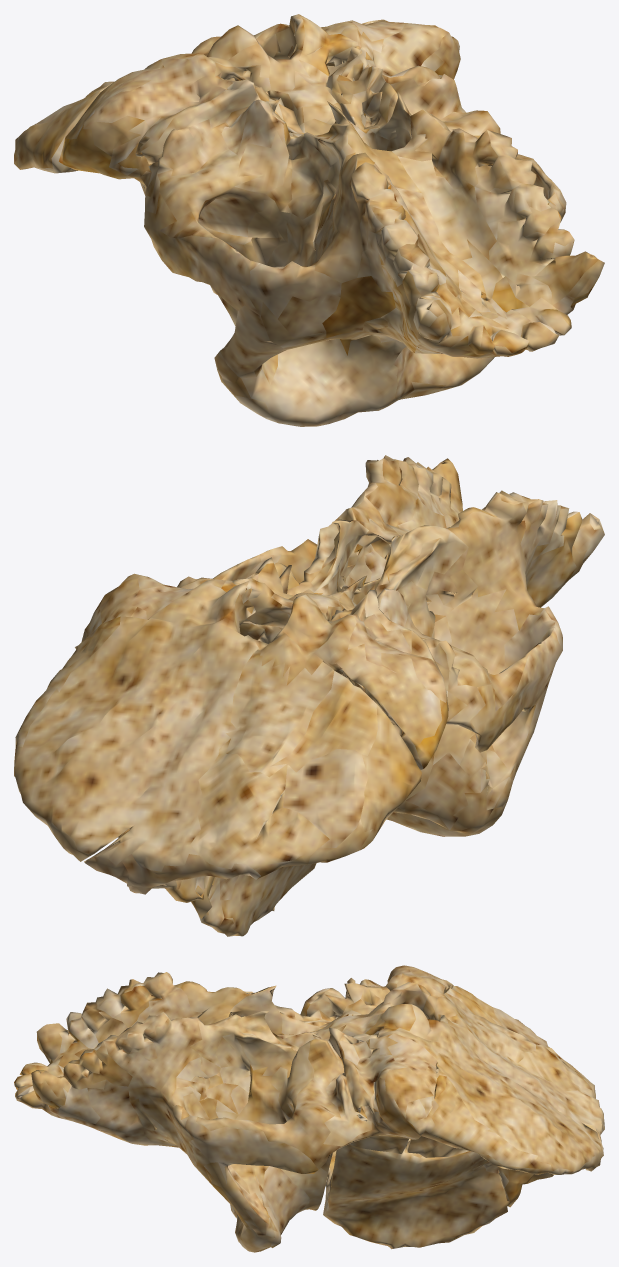
Rendered from gorilla-cranium-1k-v01-textured-v01.glb.
The picture shows the model from 3 angles, top to bottom: view 1: azimuth 30°, elevation 25°; view 2: azimuth 150°, elevation 25°; view 3: azimuth 270°, elevation 25°; orthographic projection. The views are drawn at different scales.
Parts seen in each view (by area): view 1: Mesh_0; view 2: Mesh_0; view 3: Mesh_0.
Boxes of the visible parts, x1=… form: Mesh_0: x1=14, y1=14, x2=604, y2=426; Mesh_0: x1=14, y1=455, x2=604, y2=936; Mesh_0: x1=14, y1=965, x2=604, y2=1252.
Bounding box in the file's own units: 177 × 152 × 324.
Materials: 1 (1 with a texture image).
